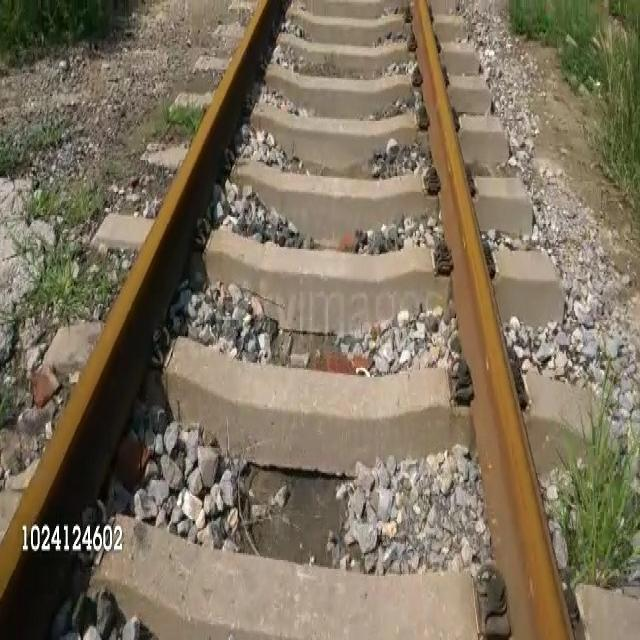Plant: (550, 415, 639, 595), (563, 34, 639, 219), (0, 0, 145, 57), (10, 241, 114, 313), (507, 0, 600, 44), (25, 182, 100, 234), (0, 129, 67, 170), (161, 103, 210, 132), (609, 0, 639, 31)
